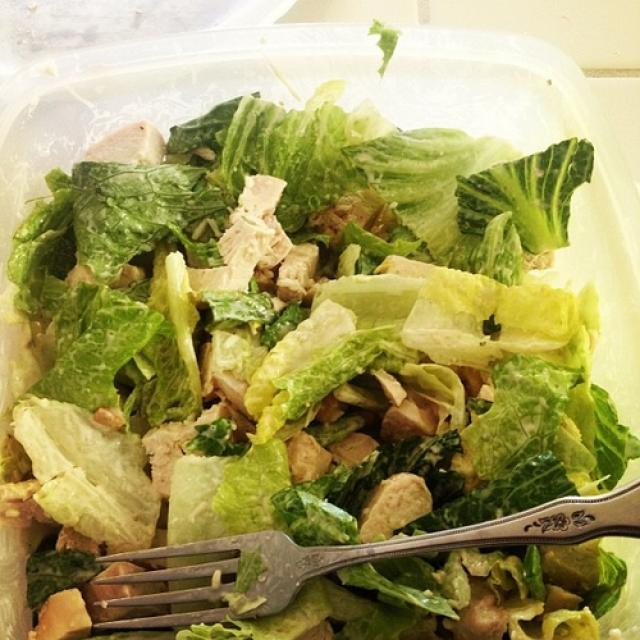蔬菜料理: (13, 34, 623, 620)
